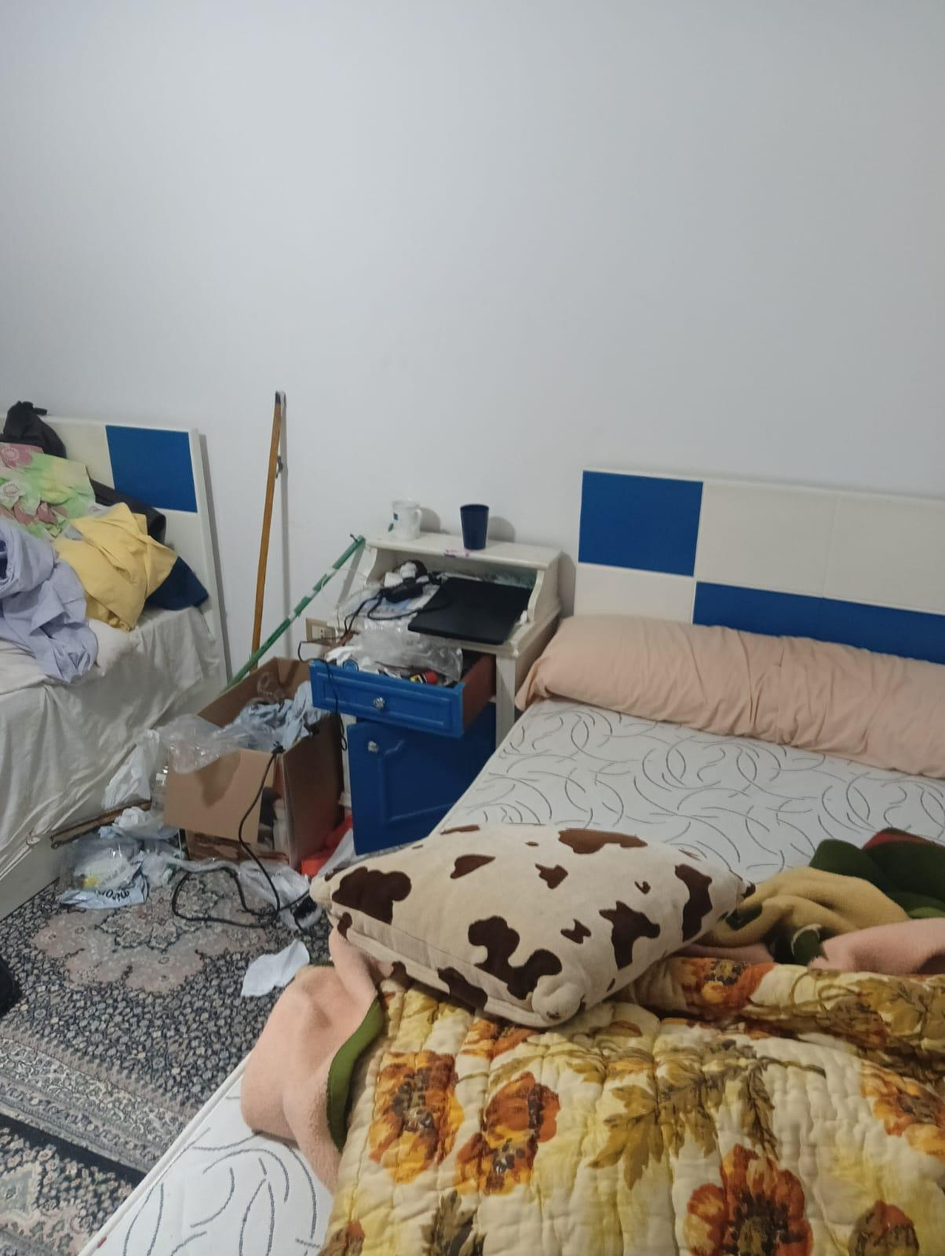cup: (460, 505, 488, 550), (391, 500, 421, 540)
